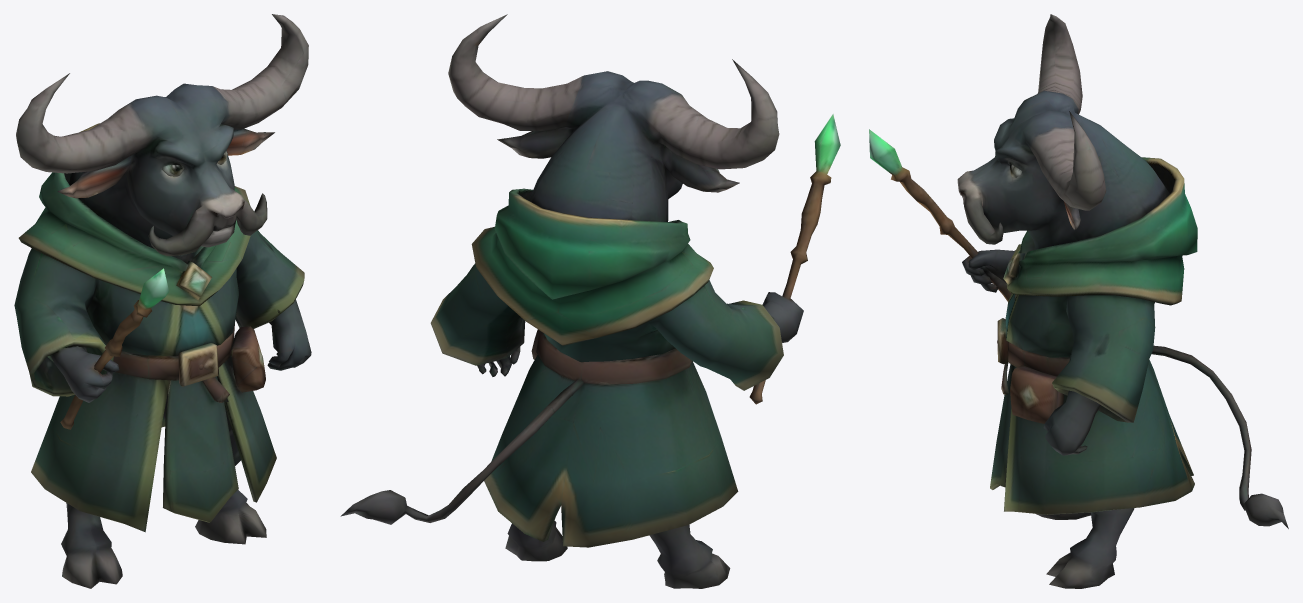
The model's file is wartaurus.glb.
The picture shows the model from 3 angles, left to right: view 1: azimuth 30°, elevation 25°; view 2: azimuth 150°, elevation 25°; view 3: azimuth 270°, elevation 25°; orthographic projection. The views are drawn at different scales.
Visible parts, largest first — view 1: Mesh_0; view 2: Mesh_0; view 3: Mesh_0.
Boxes of the visible parts, x1=… form: Mesh_0: x1=14, y1=14, x2=311, y2=588; Mesh_0: x1=340, y1=14, x2=840, y2=588; Mesh_0: x1=869, y1=14, x2=1288, y2=588.
Size of the model in its own units: 1.27 by 2 by 1.58.
1 material, 1 textured.
